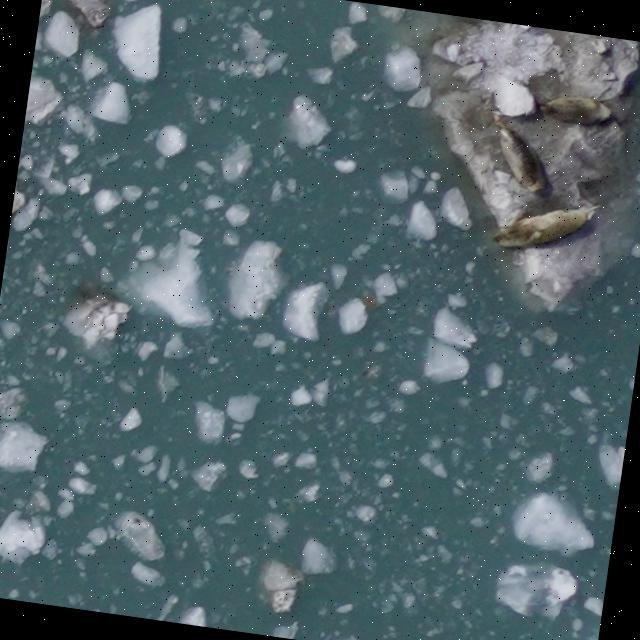seal: (483, 182, 610, 268), (481, 113, 566, 205), (525, 87, 620, 134)
